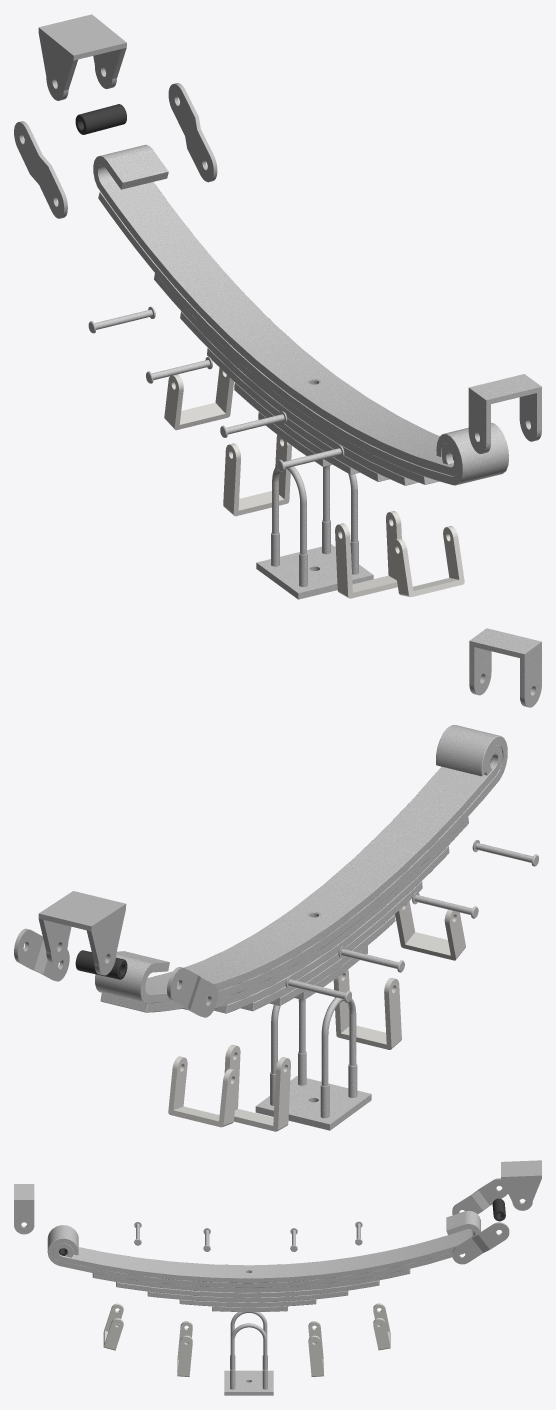
Rendered from Leaf_Spring_ex.glb.
The picture shows the model from 3 angles, top to bottom: view 1: azimuth 30°, elevation 25°; view 2: azimuth 150°, elevation 25°; view 3: azimuth 270°, elevation 25°; orthographic projection. The views are drawn at different scales.
Parts seen in each view (by area): view 1: Leaf-Layer, Support-Chassis, Support-Chassis Rigid, Clamp-Center, Clamp-Center.002, Clamp-Primary.003, Clamp-Primary.002, Clamp-Secondary.004, Clamp-Secondary.003, Support, Support.001, Support-Rubber; view 2: Leaf-Layer, Support-Chassis, Support-Chassis Rigid, Clamp-Center, Clamp-Center.002, Clamp-Primary.003, Clamp-Secondary.004, Clamp-Secondary.003, Clamp-Primary.002, Support.001, Support, Support-Rubber; view 3: Leaf-Layer, Support-Chassis, Support, Clamp-Center.002, Clamp-Center, Support-Chassis Rigid, Support.001, Clamp-Primary.002, Clamp-Primary.003, Clamp-Secondary.003, Clamp-Secondary.004.
Part boxes in pixels (x1,y1,x2,y2): Leaf-Layer: [93, 144, 508, 485]; Support-Chassis: [38, 14, 126, 100]; Support-Chassis Rigid: [468, 374, 541, 453]; Clamp-Center: [271, 465, 358, 586]; Clamp-Center.002: [256, 544, 373, 599]; Clamp-Primary.003: [335, 511, 401, 598]; Clamp-Primary.002: [223, 435, 291, 516]; Clamp-Secondary.004: [164, 367, 233, 430]; Clamp-Secondary.003: [392, 526, 464, 597]; Support: [168, 83, 217, 182]; Support.001: [14, 121, 67, 218]; Support-Rubber: [75, 104, 126, 134]; Leaf-Layer: [95, 725, 507, 1013]; Support-Chassis: [38, 891, 126, 975]; Support-Chassis Rigid: [469, 628, 541, 707]; Clamp-Center: [270, 997, 357, 1118]; Clamp-Center.002: [255, 1076, 371, 1130]; Clamp-Primary.003: [333, 969, 401, 1049]; Clamp-Secondary.004: [168, 1056, 237, 1127]; Clamp-Secondary.003: [395, 901, 465, 960]; Clamp-Primary.002: [224, 1044, 290, 1131]; Support.001: [167, 967, 217, 1017]; Support: [14, 928, 69, 981]; Support-Rubber: [75, 950, 127, 979]; Leaf-Layer: [47, 1210, 480, 1311]; Support-Chassis: [501, 1160, 541, 1210]; Support: [452, 1222, 509, 1264]; Clamp-Center.002: [224, 1370, 273, 1395]; Clamp-Center: [230, 1312, 267, 1389]; Support-Chassis Rigid: [14, 1184, 34, 1234]; Support.001: [452, 1178, 507, 1215]; Clamp-Primary.002: [308, 1321, 323, 1376]; Clamp-Primary.003: [177, 1321, 192, 1377]; Clamp-Secondary.003: [103, 1303, 123, 1350]; Clamp-Secondary.004: [373, 1303, 390, 1350].
Bounding box in the file's own units: 0.3458 × 0.585 × 1.29.
Materials: 19 (8 with a texture image).
